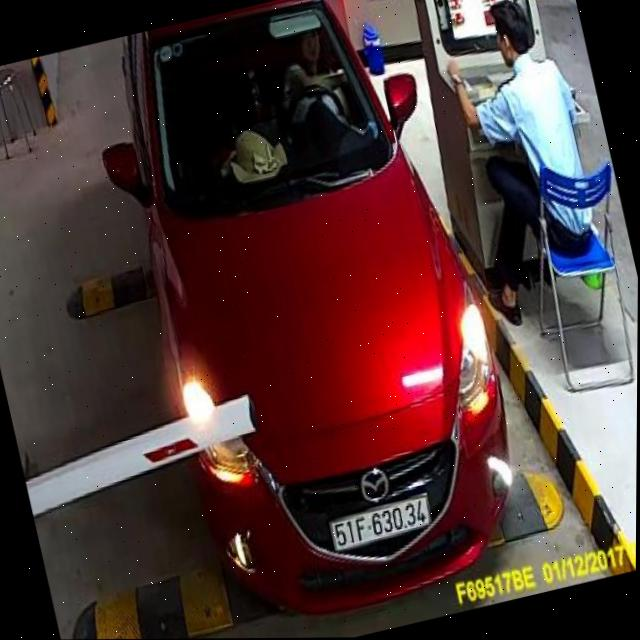car: (67, 0, 549, 638)
plate: (325, 495, 435, 556)
